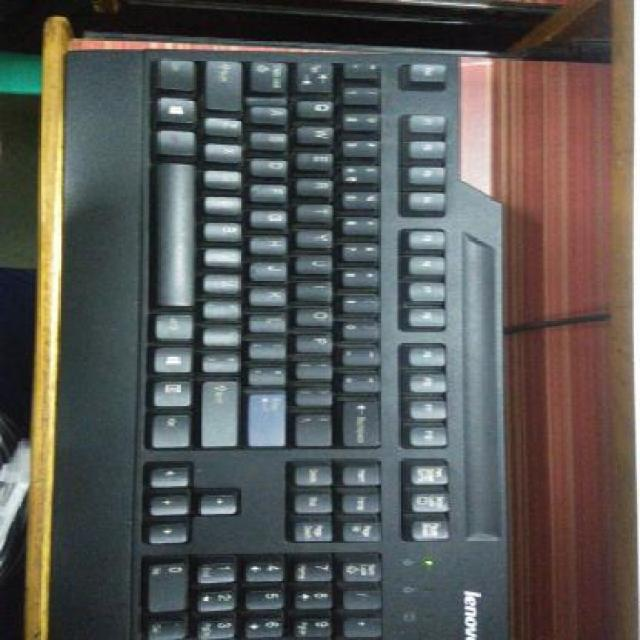keyboard: (49, 48, 463, 640)
